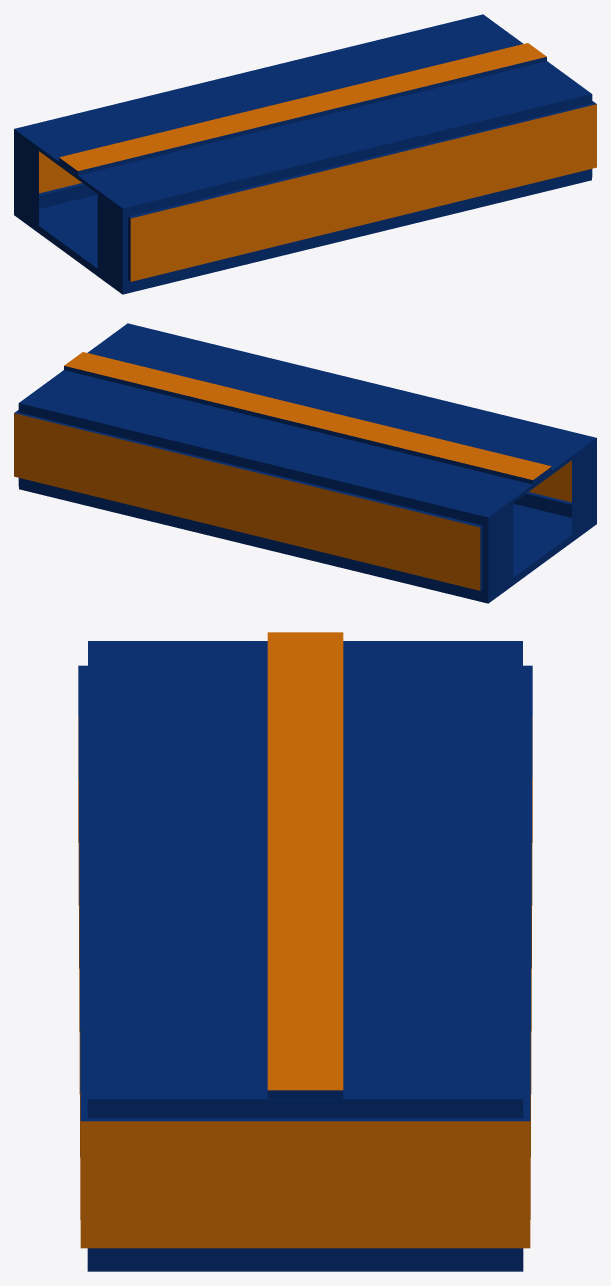
The model's file is vb_medical_bay.fbx.
The picture shows the model from 3 angles, top to bottom: view 1: azimuth 30°, elevation 25°; view 2: azimuth 150°, elevation 25°; view 3: azimuth 270°, elevation 25°; orthographic projection. The views are drawn at different scales.
Parts seen in each view (by area): view 1: medical_bay; view 2: medical_bay; view 3: medical_bay.
Boxes of the visible parts, x1,y1,x2,y2 form: medical_bay: (14,14,596,294); medical_bay: (14,323,596,603); medical_bay: (78,632,532,1271).
Bounding box in the file's own units: 35.14 × 6.45 × 14.64.
